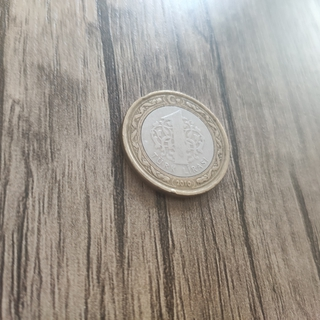1TL: (117, 88, 232, 200)
